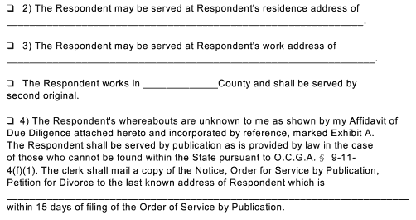checkbox: (6, 3, 15, 12), (6, 41, 15, 50), (6, 78, 15, 87), (6, 115, 15, 124)
textline: (6, 188, 409, 200), (6, 52, 378, 64), (6, 17, 365, 27), (143, 78, 219, 89)
